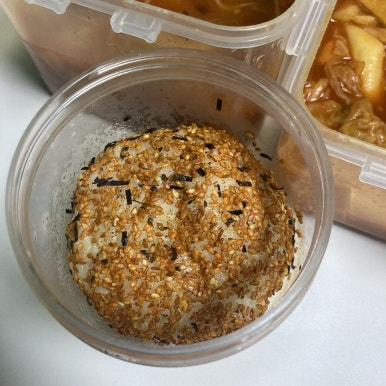Lunch Box: (6, 49, 334, 365), (0, 0, 307, 91), (282, 0, 385, 239)
